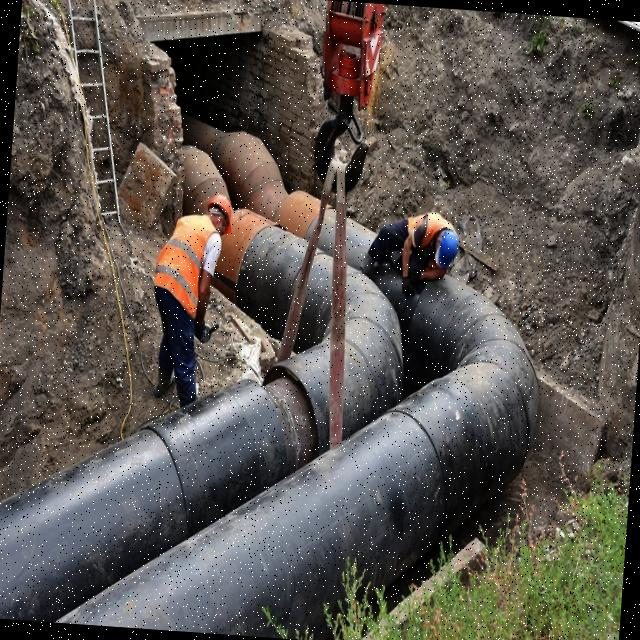Helmet: (433, 227, 462, 274), (208, 192, 235, 235)
Jacket: (156, 216, 216, 303)
